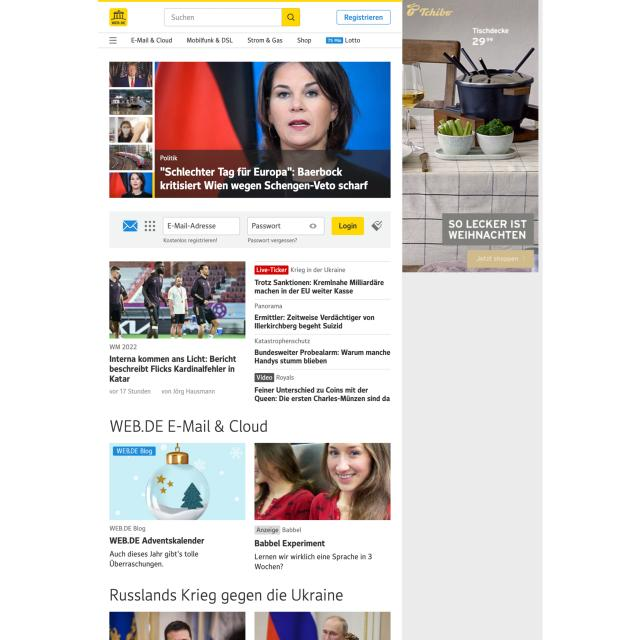input: (163, 8, 302, 28), (246, 216, 326, 236), (162, 216, 241, 236)
logo: (108, 7, 128, 27)
navigation: (129, 35, 363, 44), (107, 35, 119, 46)
